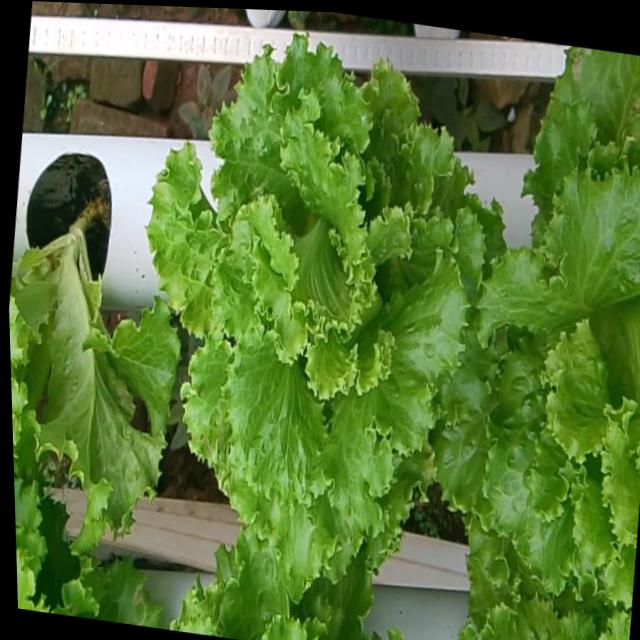Mature: (156, 29, 493, 571), (442, 149, 640, 584)
